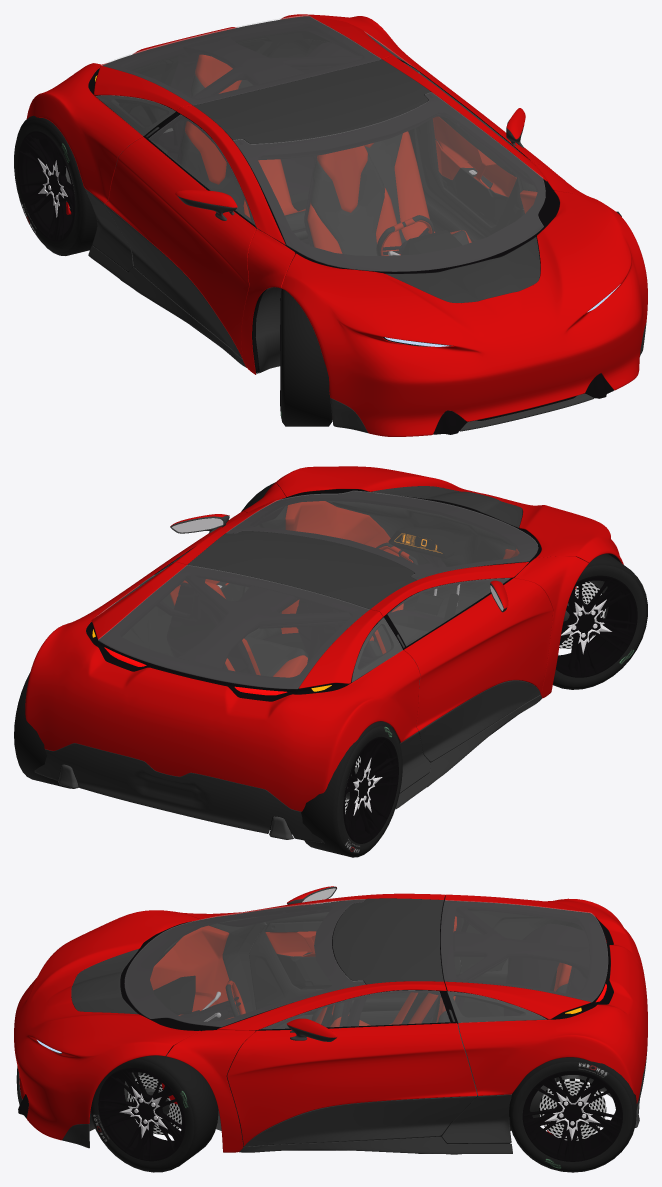
The model's file is Sprint.glb.
3 renders of one model, top to bottom at view 1: azimuth 30°, elevation 25°; view 2: azimuth 150°, elevation 25°; view 3: azimuth 270°, elevation 25°, orthographic. The views are drawn at different scales.
Visible parts, largest first — view 1: BodyHood, BodyWindshield, BodyDoorRColor1, BodyRearwindow, BodyWindshieldGasket, BodyRoofPanel, BodyRearPanelsColor1, InteriorSeatsColor1, InteriorSeatsColor2, BodyPillars, BodyPanelsColor2, WheelFrontR (+20 smaller); view 2: BodyRearPanelsColor1, BodyRearwindow, BodyWindshield, BodyPanelsColor2, BodyDoorRColor1, BodyRoofPanel, BodyHood, InteriorRearHatch, BodyPillars, BodyWindshieldGasket, InteriorPillar, WheelFrontRRim (+21 smaller); view 3: BodyWindshield, BodyHood, BodyDoorLColor1, BodyRearPanelsColor1, BodyRearwindow, BodyRoofPanel, BodyPillars, BodyWindshieldGasket, BodyDoorLColor2, BodyPanelsColor2, WheelRearLRim, WheelFrontLRim (+24 smaller).
Boxes of the visible parts, box(x1,y1,x2,y2) form: BodyHood: box(281, 190, 647, 436); BodyWindshield: box(233, 92, 545, 271); BodyDoorRColor1: box(105, 137, 256, 358); BodyRearwindow: box(101, 15, 381, 105); BodyWindshieldGasket: box(233, 93, 559, 273); BodyRoofPanel: box(194, 59, 430, 144); BodyRearPanelsColor1: box(26, 14, 428, 203); InteriorSeatsColor1: box(185, 54, 471, 255); InteriorSeatsColor2: box(180, 74, 468, 255); BodyPillars: box(176, 55, 594, 374); BodyPanelsColor2: box(85, 128, 646, 433); WheelFrontR: box(280, 289, 332, 426); BodyRearPanelsColor1: box(25, 562, 420, 811); BodyRearwindow: box(98, 565, 369, 688); BodyWindshield: box(227, 491, 537, 579); BodyPanelsColor2: box(34, 694, 541, 843); BodyDoorRColor1: box(404, 578, 553, 730); BodyRoofPanel: box(187, 531, 416, 609); BodyHood: box(273, 466, 623, 564); InteriorRearHatch: box(98, 566, 381, 693); BodyPillars: box(174, 483, 588, 698); BodyWindshieldGasket: box(227, 490, 541, 580); InteriorPillar: box(178, 566, 411, 668); WheelFrontRRim: box(556, 575, 637, 677); BodyWindshield: box(124, 899, 365, 1026); BodyHood: box(14, 910, 200, 1140); BodyDoorLColor1: box(227, 1023, 476, 1146); BodyRearPanelsColor1: box(445, 894, 647, 1103); BodyRearwindow: box(441, 900, 607, 1002); BodyRoofPanel: box(332, 898, 443, 984); BodyPillars: box(166, 893, 446, 1152); BodyWindshieldGasket: box(121, 900, 364, 1030); BodyDoorLColor2: box(245, 1096, 476, 1146); BodyPanelsColor2: box(16, 1050, 647, 1154); WheelRearLRim: box(522, 1071, 622, 1161); WheelFrontLRim: box(98, 1067, 185, 1161).
Bounding box in the file's own units: 2.37 × 1.08 × 3.81.
Materials: 22 (5 with a texture image).
